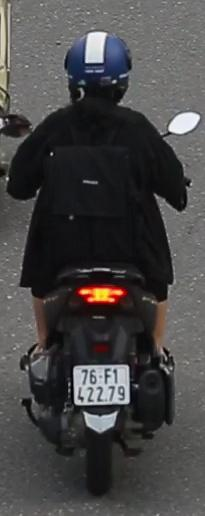LP: (72, 360, 132, 410)
helmet: (61, 26, 132, 111)
